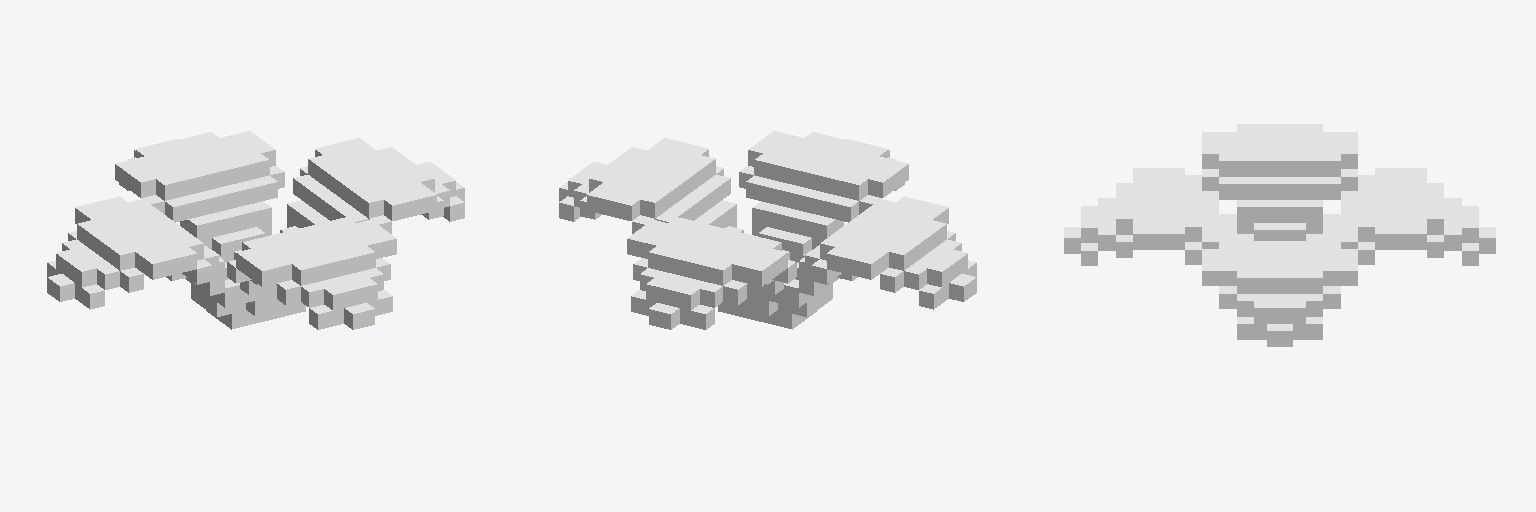
Rendered from krzaki.obj.
3 views of the same model, side by side, from view 1: azimuth 30°, elevation 25°; view 2: azimuth 150°, elevation 25°; view 3: azimuth 270°, elevation 25° (orthographic).
Parts seen in each view (by area): view 1: object 1; view 2: object 1; view 3: object 1.
Part boxes in pixels (bbox=[...]): object 1: bbox=[47, 131, 464, 329]; object 1: bbox=[559, 131, 976, 329]; object 1: bbox=[1064, 124, 1495, 346].
Size of the model in its own units: 10.8 by 2.8 by 10.